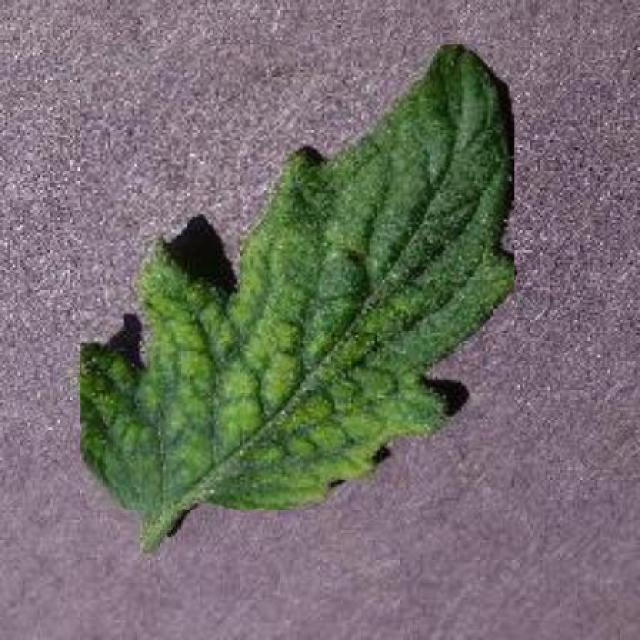Mosaic Virus: (80, 44, 514, 510)
